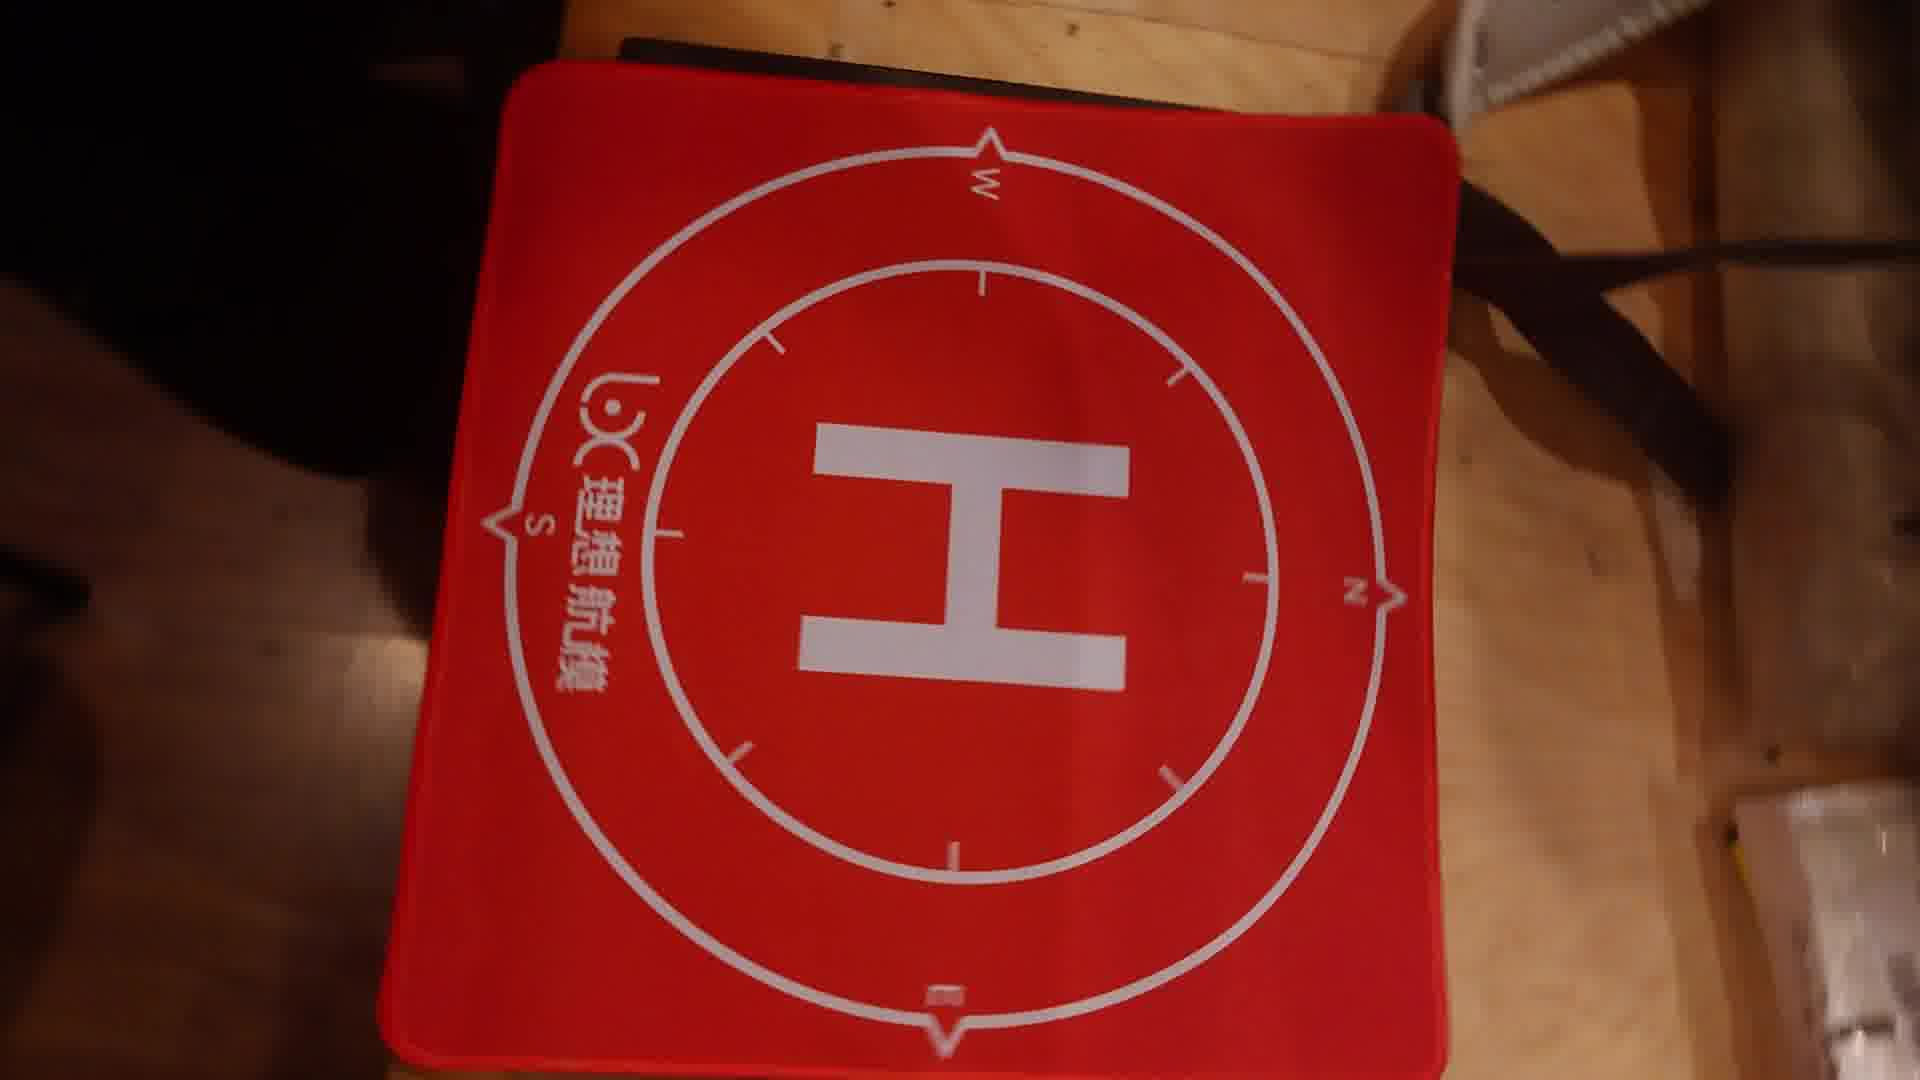H: (796, 421, 1137, 694)
